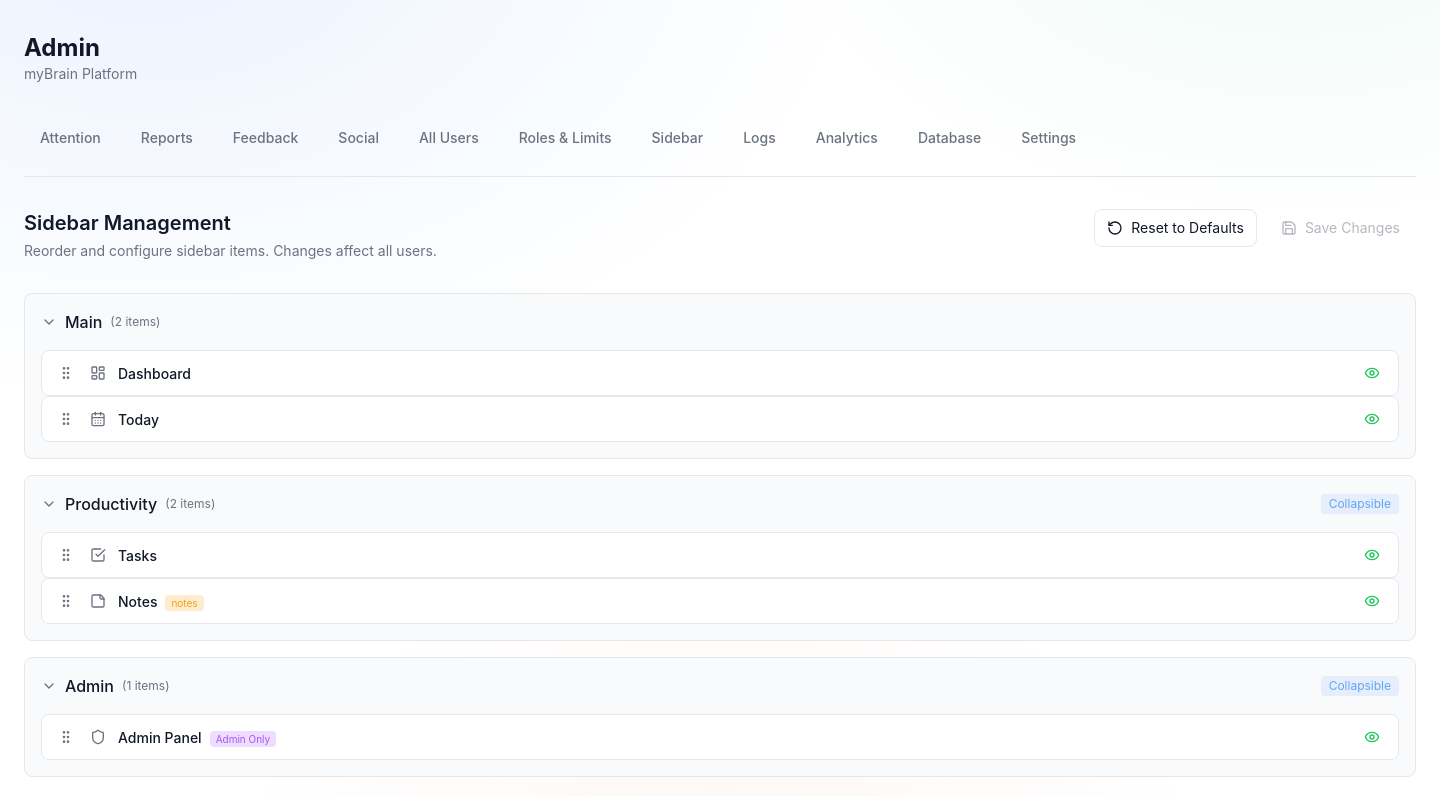
Test: AdminSidebarPage › Section Expand/Collapse › can expand a collapsed section
# Collapse then expand
Click the button "Productivity (2 items) Collapsible": (111, 504) 25,476 -> 1415,532
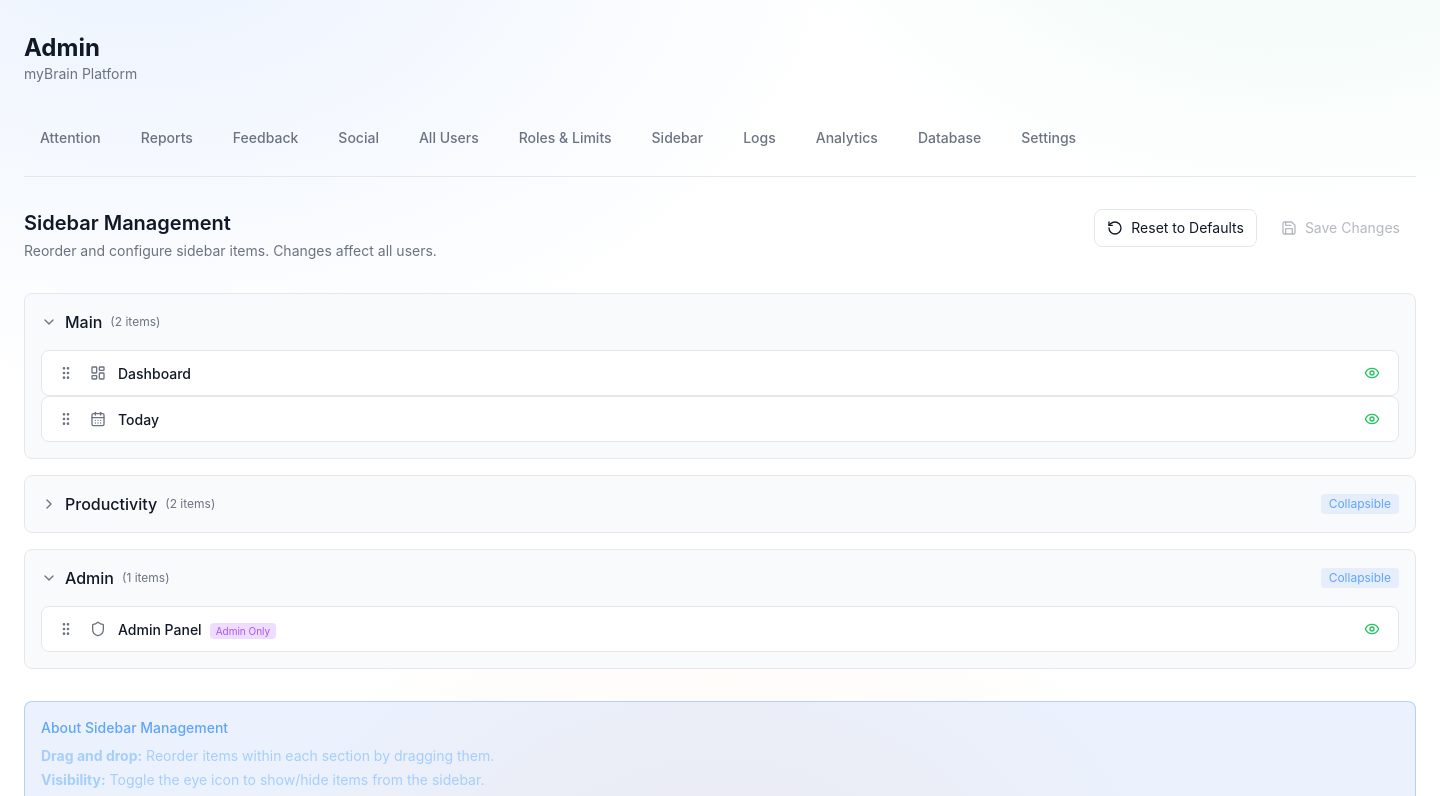
Click the button "Productivity (2 items) Collapsible": (111, 504) 25,476 -> 1415,532
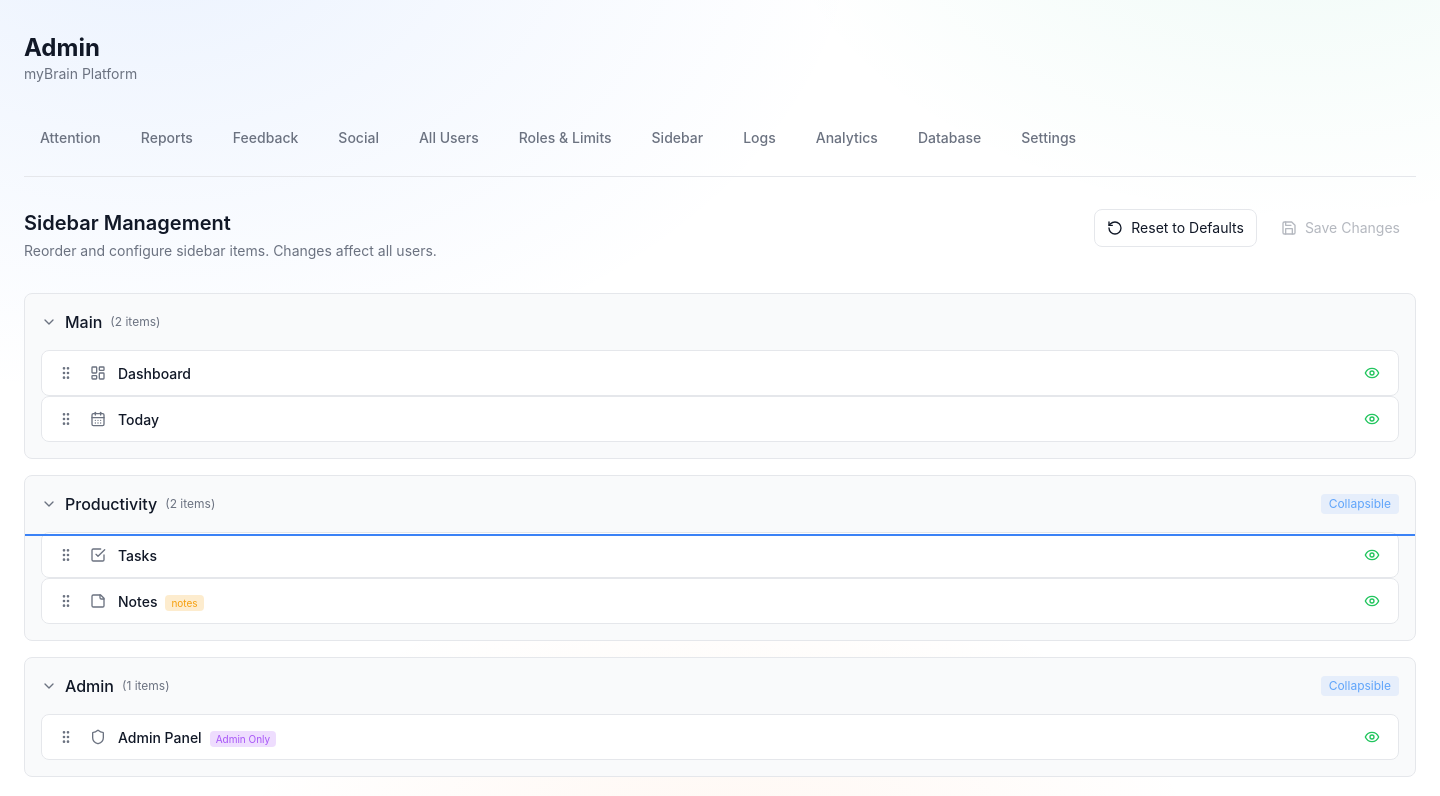
Expected: the text "Tasks" is shown, 118,547 -> 157,564
Expected: the text "Notes" is shown, 118,593 -> 157,610
